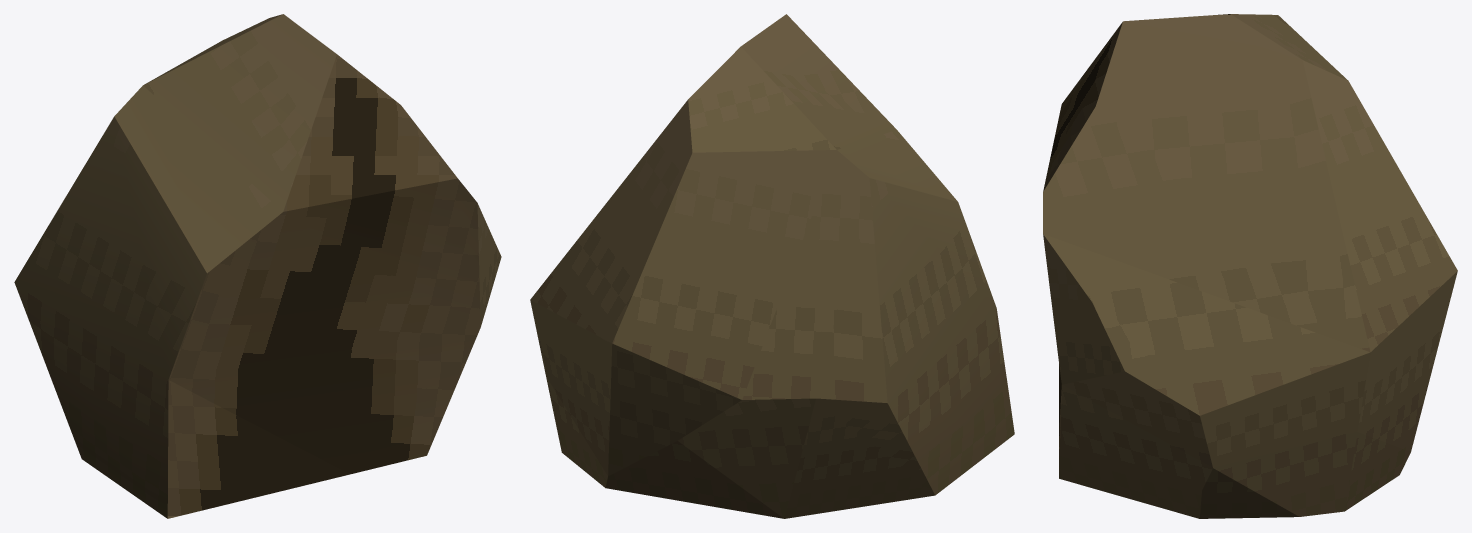
The model's file is Caillou fissuré.glb.
The picture shows the model from 3 angles, left to right: view 1: azimuth 30°, elevation 25°; view 2: azimuth 150°, elevation 25°; view 3: azimuth 270°, elevation 25°; orthographic projection. The views are drawn at different scales.
Visible parts, largest first — view 1: Cube.001; view 2: Cube.001; view 3: Cube.001.
Part boxes in pixels (x1,y1,x2,y2): Cube.001: [14, 14, 501, 518]; Cube.001: [530, 14, 1014, 518]; Cube.001: [1043, 14, 1457, 518].
Size of the model in its own units: 1.27 by 1.22 by 1.07.
Materials: 1 (1 with a texture image).
